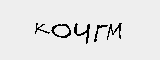Г: (91, 21, 109, 44)
К: (32, 20, 49, 39)
М: (105, 21, 125, 42)
О: (50, 21, 71, 40)
Ч: (72, 22, 90, 44)
